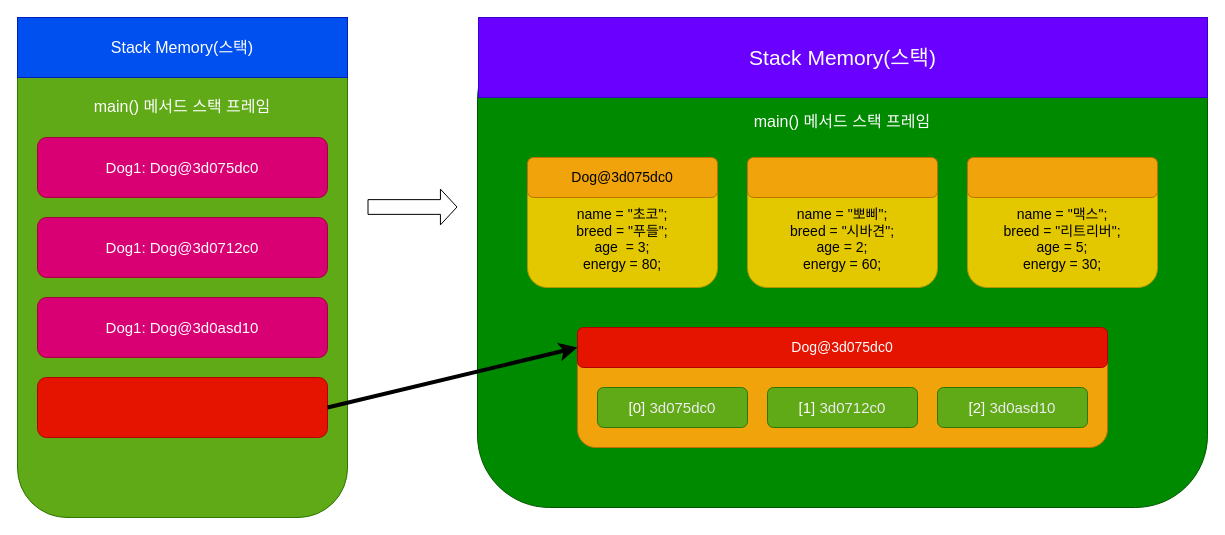
This 1225x535 diagram has some shape labels left out. The shapes that lost their labels are listed below. From the top down, each one's centre as x and y in pixels, then its label:
[842,177]: Dog@3d0712c0
[1062,177]: Dog@3d0asd10
[182,407]: (객체 배열) dogs: @88aac27
